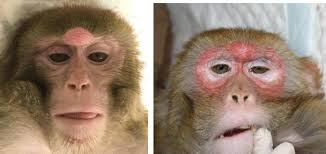monkey: (156, 11, 326, 154), (7, 1, 143, 142)
